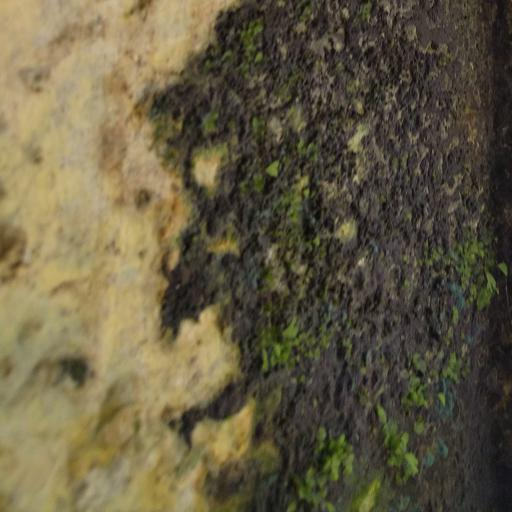algae: (125, 0, 512, 512)
